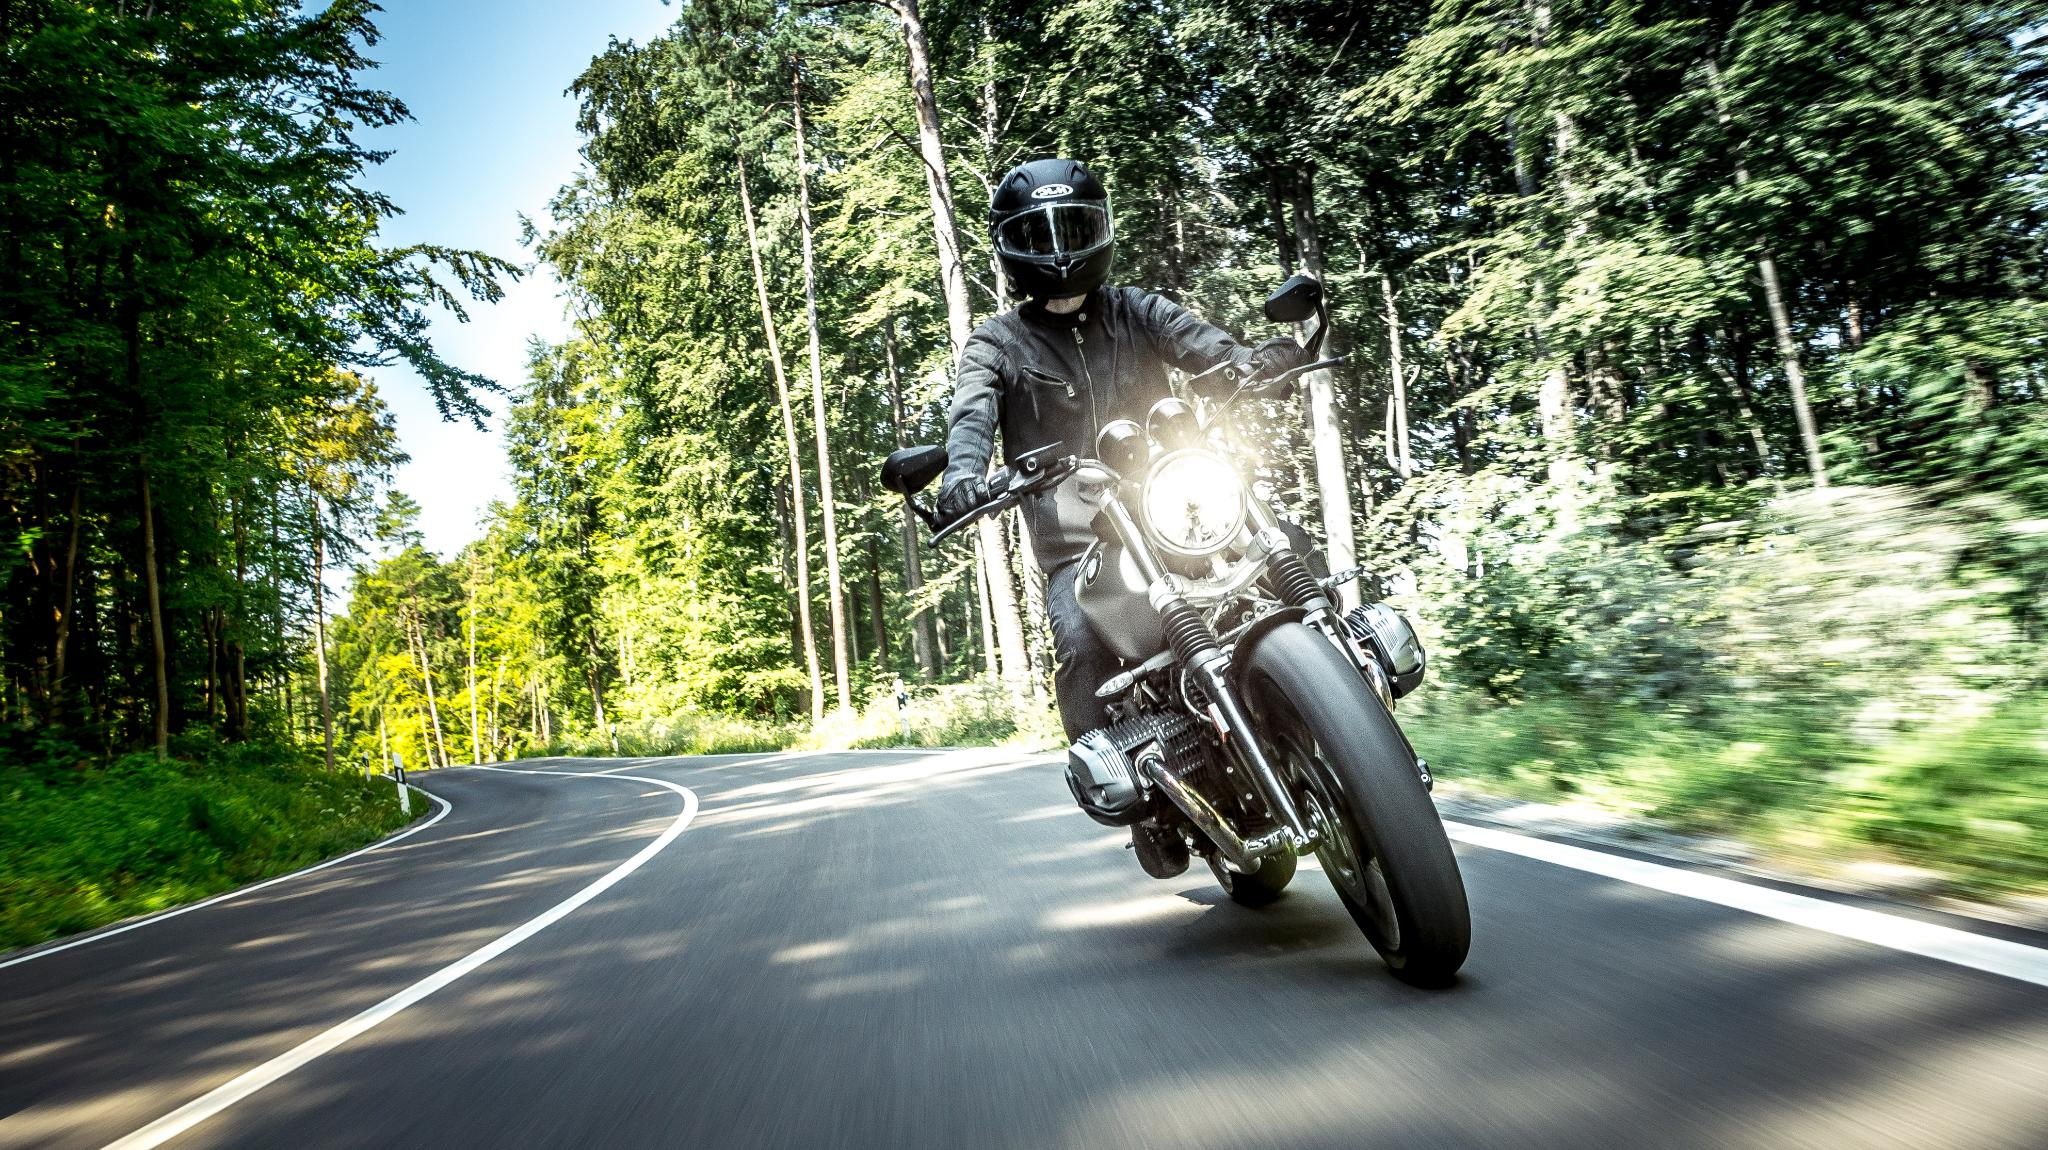motorcycle: (866, 274, 1495, 986)
